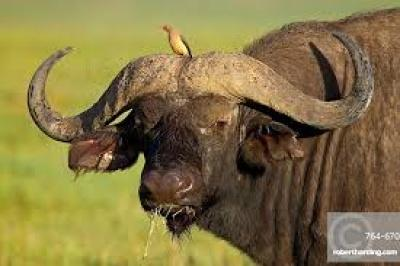buffalo: (28, 8, 399, 265)
